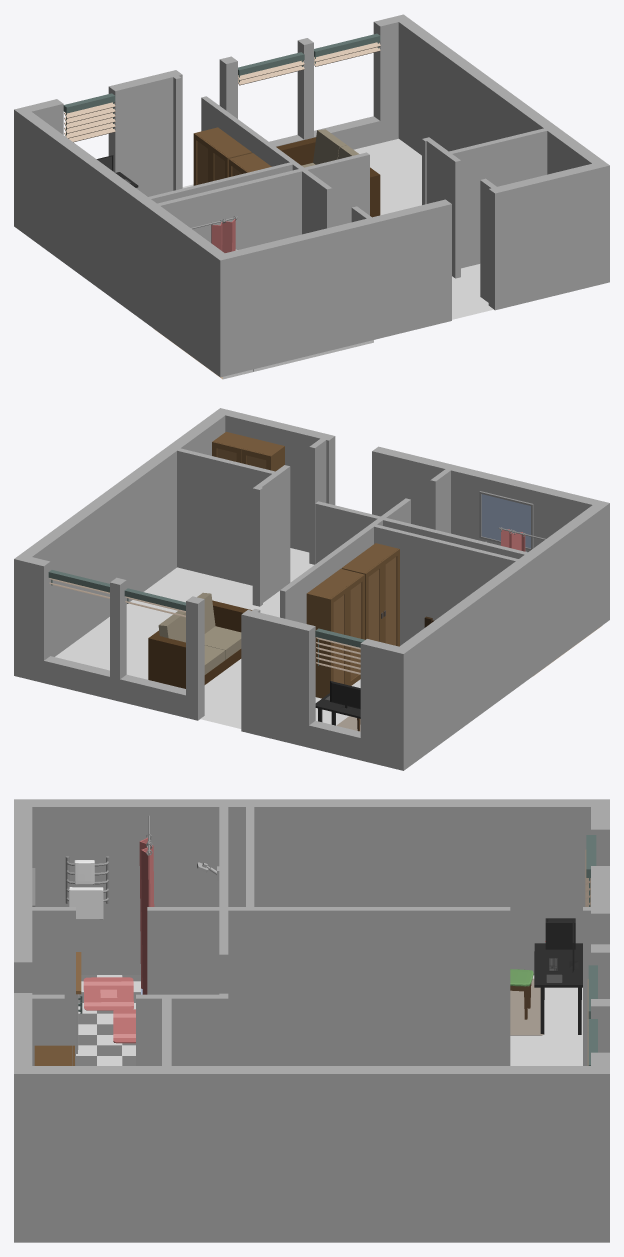
Rendered from flat_v02.glb.
3 views of the same model, one above another, from view 1: azimuth 30°, elevation 25°; view 2: azimuth 150°, elevation 25°; view 3: azimuth 270°, elevation 25° (orthographic). The views are drawn at different scales.
Parts seen in each view (by area): view 1: walls, ground, Sofa_01, RoomFurniture_08.001, Curtains_11, Curtains_12.001, Curtains_12, Shower_01, RoomFurniture_08; view 2: walls, ground, Sofa_01, RoomFurniture_08.001, RoomFurniture_08, ShowerMirror_02, RoomFurniture_08.002, Curtains_11, Curtains_12.001, Curtains_12, PC_Screen, PC_Table (+1 smaller); view 3: walls, ground, Floor_27.001, PC_Table, Shower_01, ShowerCarpet_02, Catpet_01, Towel_03, PC, RoomFurniture_08.002, ShowerCarpet_01, KitchenChair_01.001 (+2 smaller).
Part boxes in pixels (bbox=[...]): walls: bbox=[14, 14, 609, 377]; ground: bbox=[182, 138, 493, 319]; Sofa_01: bbox=[276, 129, 380, 217]; RoomFurniture_08.001: bbox=[193, 127, 251, 185]; Curtains_11: bbox=[63, 93, 115, 142]; Curtains_12.001: bbox=[314, 33, 380, 66]; Curtains_12: bbox=[238, 52, 304, 85]; Shower_01: bbox=[191, 216, 237, 252]; RoomFurniture_08: bbox=[228, 153, 271, 176]; walls: bbox=[14, 408, 609, 770]; ground: bbox=[55, 548, 360, 728]; Sofa_01: bbox=[148, 592, 252, 688]; RoomFurniture_08.001: bbox=[306, 568, 364, 698]; RoomFurniture_08: bbox=[341, 543, 399, 646]; ShowerMirror_02: bbox=[479, 491, 533, 550]; RoomFurniture_08.002: bbox=[212, 431, 284, 471]; Curtains_11: bbox=[315, 628, 364, 674]; Curtains_12.001: bbox=[48, 570, 109, 598]; Curtains_12: bbox=[124, 588, 185, 617]; PC_Screen: bbox=[330, 681, 360, 710]; PC_Table: bbox=[315, 693, 360, 725]; walls: bbox=[14, 799, 609, 1242]; ground: bbox=[122, 975, 582, 1065]; Floor_27.001: bbox=[76, 992, 121, 1065]; PC_Table: bbox=[534, 943, 582, 1034]; Shower_01: bbox=[139, 815, 154, 994]; ShowerCarpet_02: bbox=[83, 977, 133, 1010]; Catpet_01: bbox=[510, 978, 543, 1035]; Towel_03: bbox=[69, 887, 103, 919]; PC: bbox=[545, 918, 575, 949]; RoomFurniture_08.002: bbox=[34, 1045, 74, 1065]; ShowerCarpet_01: bbox=[113, 1009, 135, 1043]; KitchenChair_01.001: bbox=[510, 969, 533, 1019].
Size of the model in its own units: 14.57 by 4.37 by 13.37.
Materials: 4 (2 with a texture image).
